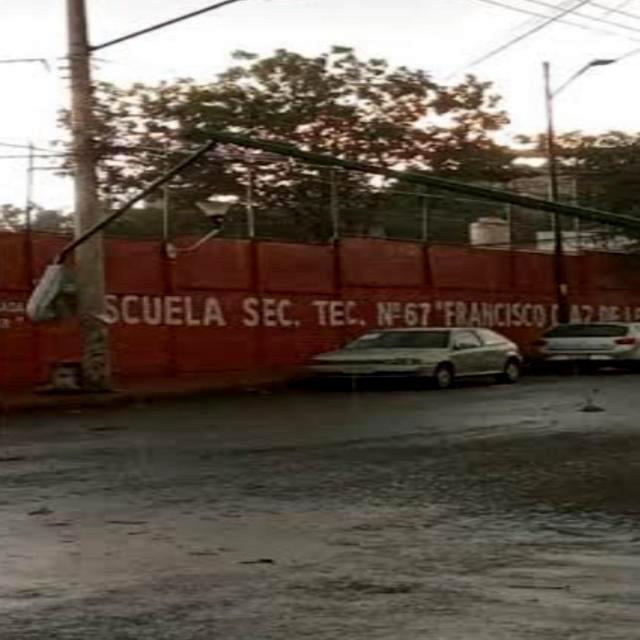Broken Pole: (23, 123, 636, 329)
